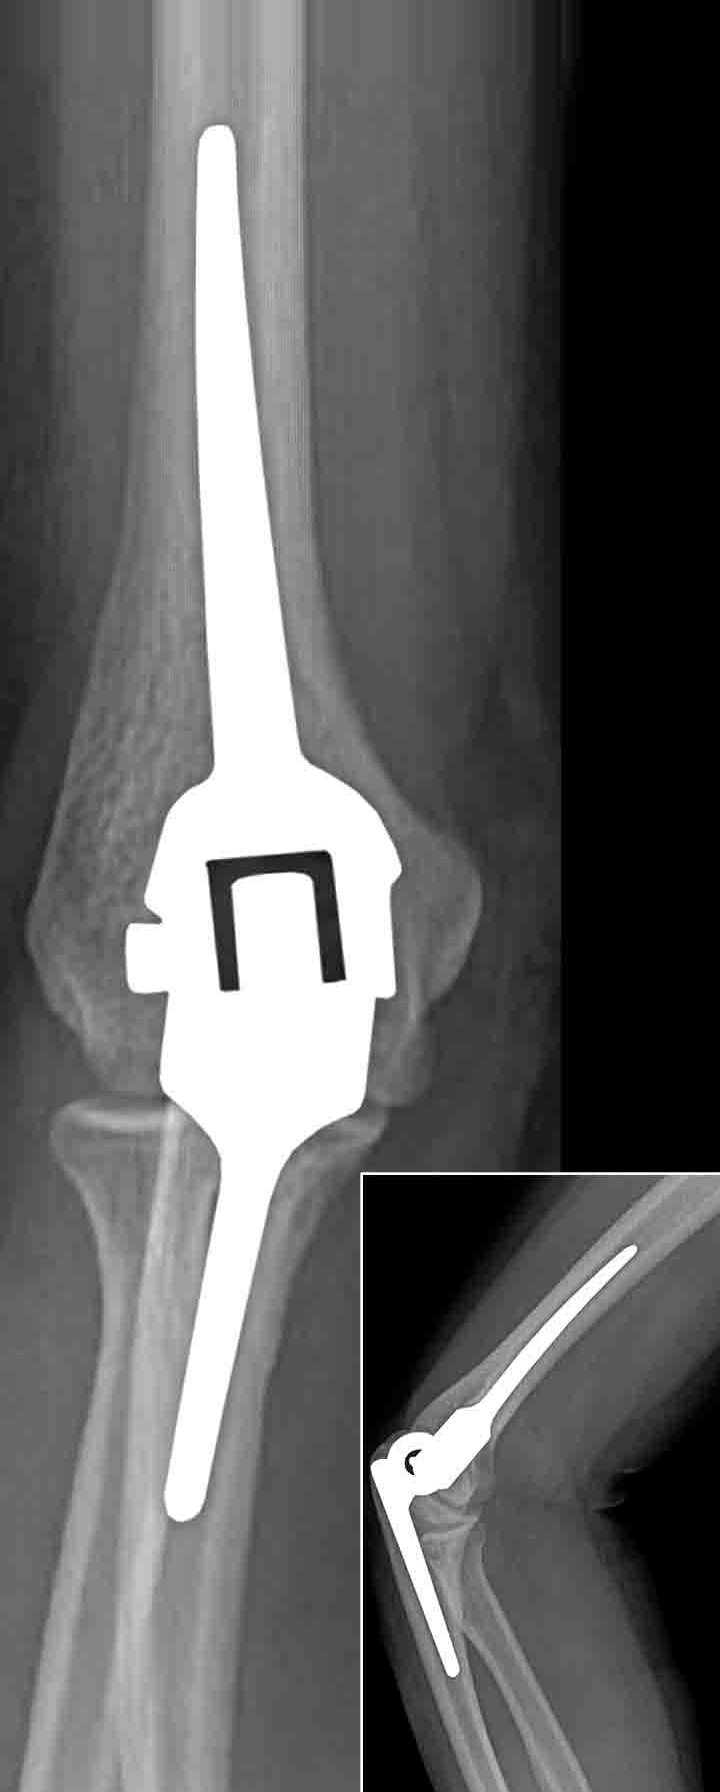Elbow - Osteonics - Stryker: (40, 109, 431, 1366), (363, 1238, 645, 1702)
